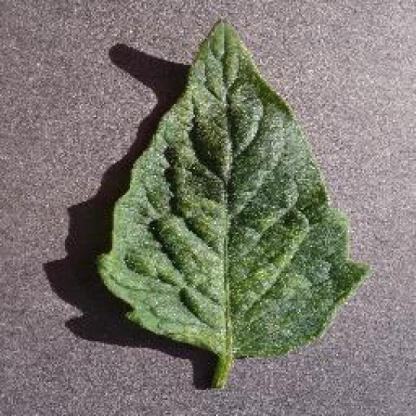Tomato_Spider_Mites: (96, 20, 366, 356)
